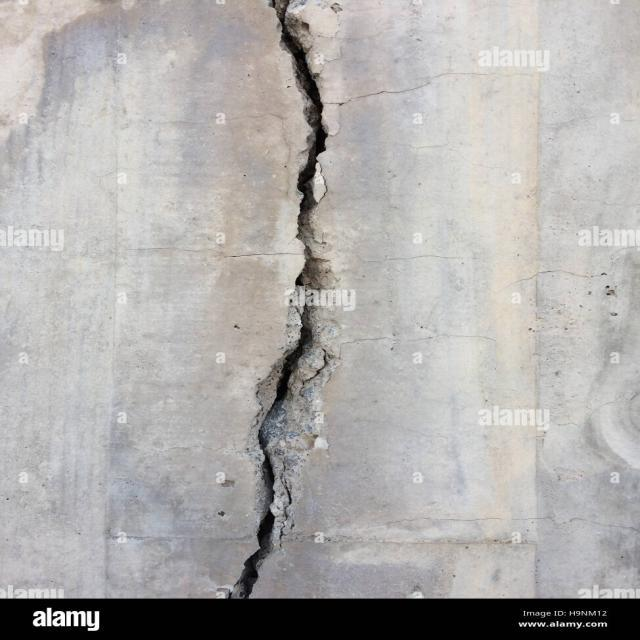Crack: (226, 0, 345, 597)
